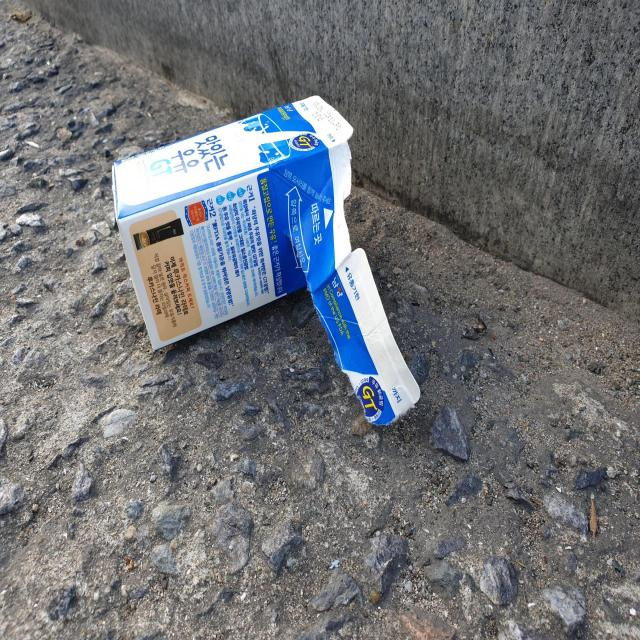paperpack: (112, 95, 420, 425)
